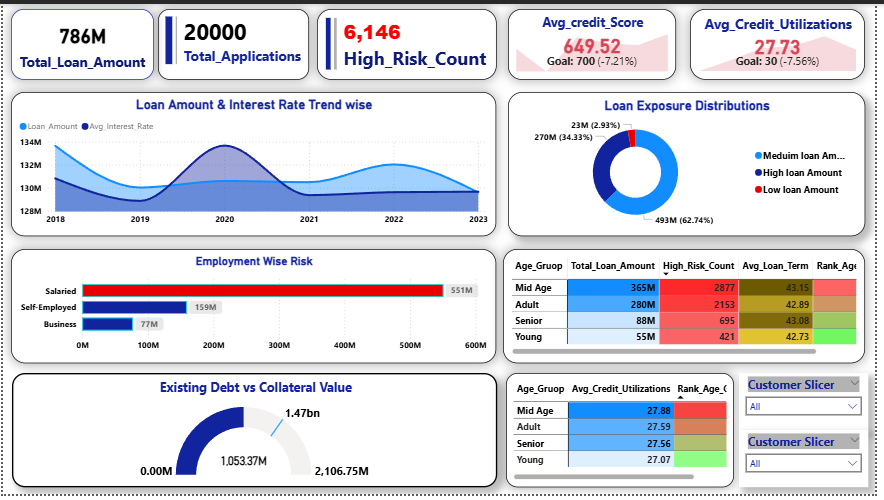

The dashboard page shown, as its layout file describes it:
{"tool":"powerbi","page":{"name":"Risk Overview","canvas":[1280,720],"ordinal":0},"visuals":[{"type":"multiRowCard","title":"Total Loan ","fields":{"Values":["Measure.Total_Applications"]},"box":[227.8,7.3,221.9,104.3],"z":0},{"type":"card","title":"Total_Loan_Amount","fields":{"Values":["Measure.Total_Loan_Amount"]},"box":[11.8,7.3,210.1,104.3],"z":1000},{"type":"multiRowCard","title":"High_Risk_Count","fields":{"Values":["Measure.High_Risk_Count"]},"box":[461.9,6.7,263.7,104.1],"z":2000},{"type":"kpi","title":"Avg_credit_Score ","fields":{"Indicator":["Measure.Avg_credit_Score"],"TrendLine":["Date.Year"],"Goal":["Measure.Target 2"]},"box":[742.5,6.7,246.9,104.1],"z":3000},{"type":"kpi","title":"Avg_Credit_Utilizations","fields":{"Indicator":["Measure.Avg_Credit_Utilizations"],"Goal":["Measure.Target 4"],"TrendLine":["Date.Year"]},"box":[1009.6,6.7,257,104.1],"z":4000},{"type":"lineChart","title":"Loan Amount & Interest Rate Trend wise","fields":{"Category":["Date.Year"],"Y":["Measure.Total_Amount"],"Y2":["Measure.Avg_Interest_Rate"]},"box":[11.8,129.3,712.7,211.6],"z":5000},{"type":"donutChart","title":"Loan Exposure Distributions ","fields":{"Category":["Loan_Data_Table.Risk_Loan_Amount_Category"],"Y":["Measure.Total_Amount"]},"box":[742,129.3,524.6,211.6],"z":6000},{"type":"clusteredBarChart","title":" Employment Wise Risk","fields":{"Y":["Measure.Total_Amount"],"Category":["Employment_Table.Employment_Type"]},"box":[11.8,360,712.7,167.5],"z":7000},{"type":"pivotTable","fields":{"Rows":["Customer_Table.Age_Gruop"],"Values":["Measure.Total_Amount","Measure.High_Risk_Count","Measure.Avg_Loan_Term","Measure.Rank_Age_Group"]},"box":[734.7,360,531.9,167.5],"z":8000},{"type":"gauge","title":"Existing Debt vs Collateral Value","fields":{"Y":["Sum(Loan_Data_Table.Existing_Debt)"],"TargetValue":["Sum(Loan_Data_Table.Collateral_Value)"]},"box":[13.2,542.2,712.7,167.5],"z":9000},{"type":"pivotTable","fields":{"Rows":["Customer_Table.Age_Gruop"],"Values":["Measure.Avg_Credit_Utilizations","Measure.Rank_Age_Group"]},"box":[739.1,542.2,335,167.5],"z":10000},{"type":"slicer","fields":{"Values":["Customer_Table.Education_Level"]},"box":[1081.5,542.2,189.6,83.8],"z":11000},{"type":"slicer","fields":{"Values":["Customer_Table.Marital_Status"]},"box":[1081.5,626,189.6,83.8],"z":11001}]}

Visuals, with their boxes in screenshot pixels (x1, y1, x2, y2), scaled from the page's 1280x720 canvas onto the 884x500 screenshot:
"Total Loan " multiRowCard: box(157, 5, 311, 78)
"Total_Loan_Amount" card: box(8, 5, 153, 78)
"High_Risk_Count" multiRowCard: box(319, 5, 501, 77)
"Avg_credit_Score " kpi: box(513, 5, 683, 77)
"Avg_Credit_Utilizations" kpi: box(697, 5, 875, 77)
"Loan Amount & Interest Rate Trend wise" lineChart: box(8, 90, 500, 237)
"Loan Exposure Distributions " donutChart: box(512, 90, 875, 237)
" Employment Wise Risk" clusteredBarChart: box(8, 250, 500, 366)
pivotTable - Customer_Table.Age_Gruop x Measure.Total_Amount: box(507, 250, 875, 366)
"Existing Debt vs Collateral Value" gauge: box(9, 377, 501, 493)
pivotTable - Customer_Table.Age_Gruop x Measure.Avg_Credit_Utilizations: box(510, 377, 742, 493)
slicer - Customer_Table.Education_Level: box(747, 377, 878, 435)
slicer - Customer_Table.Marital_Status: box(747, 435, 878, 493)
